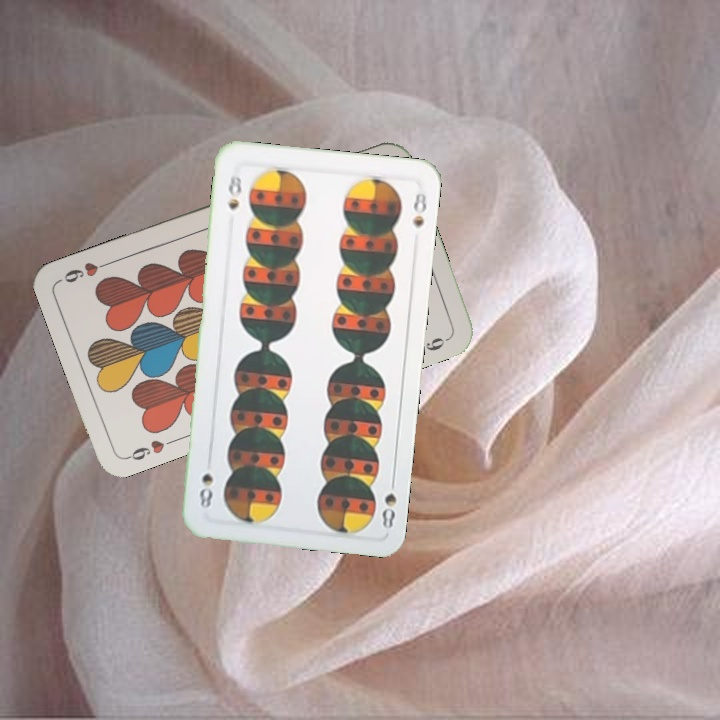H9: (122, 435, 179, 463)
S8: (378, 472, 399, 531), (223, 171, 244, 212)
